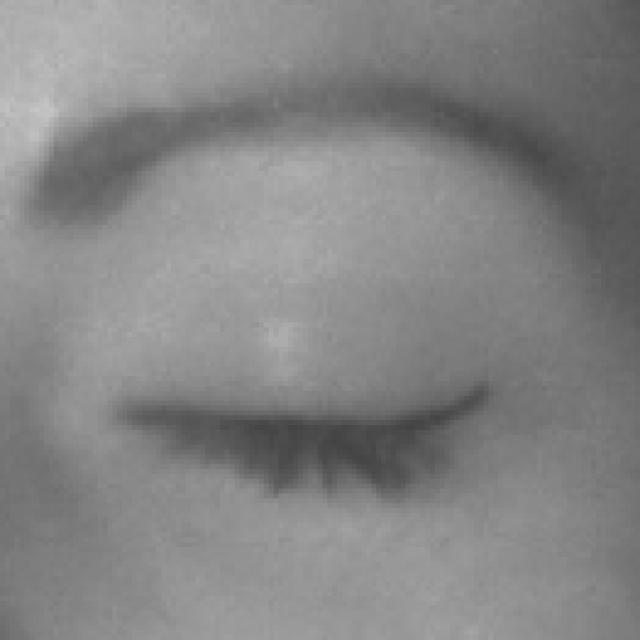close: (0, 62, 640, 589)
